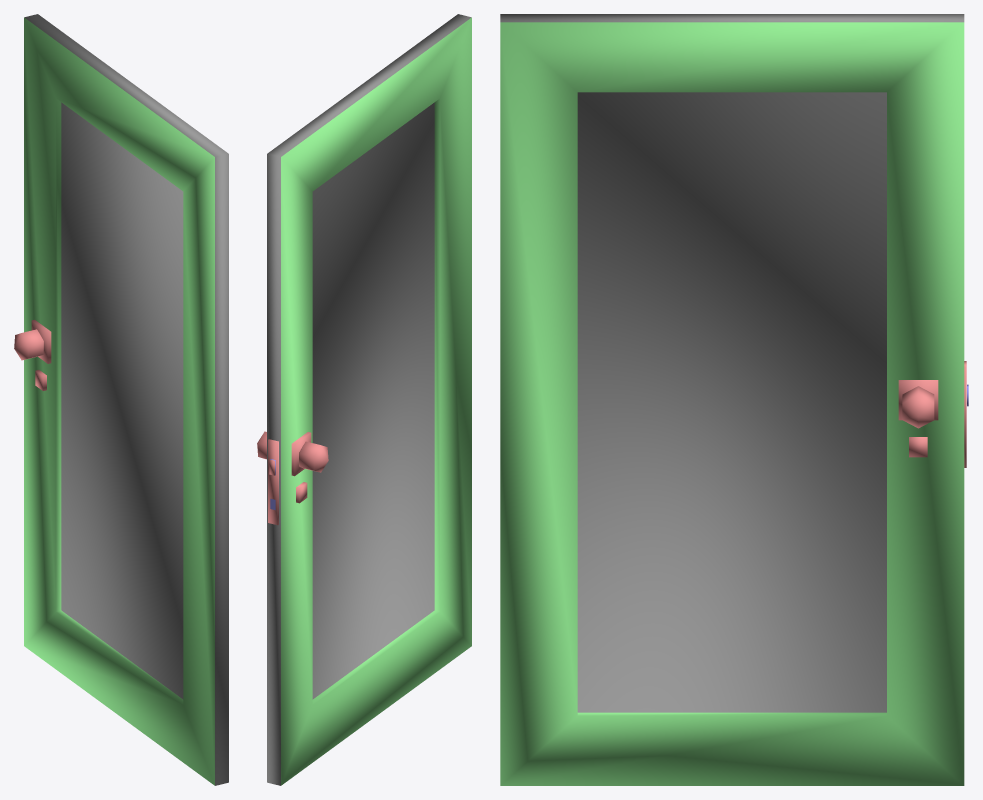
Rendered from SM_doorHouse_01.gltf.
The picture shows the model from 3 angles, left to right: view 1: azimuth 30°, elevation 25°; view 2: azimuth 150°, elevation 25°; view 3: azimuth 270°, elevation 25°; orthographic projection. The views are drawn at different scales.
Parts seen in each view (by area): view 1: SM_doorHouse_01; view 2: SM_doorHouse_01; view 3: SM_doorHouse_01.
Part boxes in pixels (<box>): SM_doorHouse_01: <box>14,14,228,785</box>; SM_doorHouse_01: <box>257,14,471,785</box>; SM_doorHouse_01: <box>500,14,968,785</box>.
Size of the model in its own units: 0.2595 by 2.18 by 1.21.
